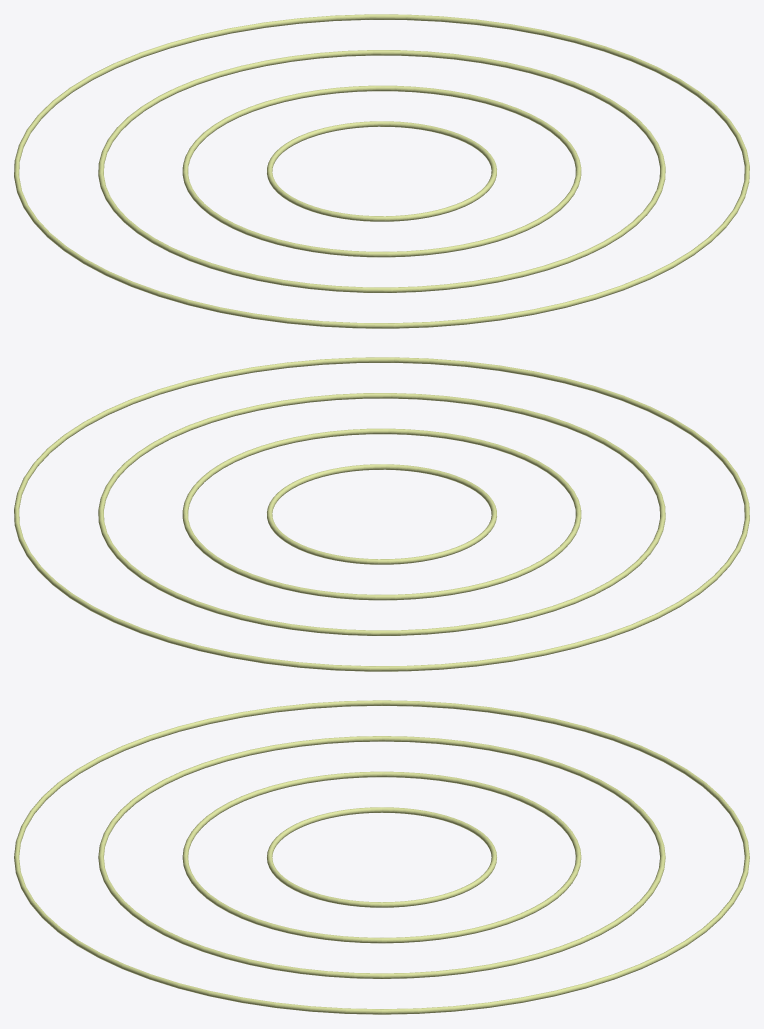
File: Rings.fbx
3 views of the same model, one above another, from view 1: azimuth 30°, elevation 25°; view 2: azimuth 150°, elevation 25°; view 3: azimuth 270°, elevation 25° (orthographic).
Visible parts, largest first — view 1: Ring4, Ring3, Ring2, Ring1; view 2: Ring4, Ring3, Ring2, Ring1; view 3: Ring4, Ring3, Ring2, Ring1.
Boxes of the visible parts, x1=… form: Ring4: x1=14, y1=14, x2=749, y2=328; Ring3: x1=98, y1=50, x2=665, y2=292; Ring2: x1=182, y1=85, x2=581, y2=257; Ring1: x1=267, y1=121, x2=496, y2=221; Ring4: x1=14, y1=357, x2=749, y2=671; Ring3: x1=98, y1=393, x2=665, y2=635; Ring2: x1=182, y1=428, x2=581, y2=600; Ring1: x1=267, y1=464, x2=496, y2=564; Ring4: x1=14, y1=700, x2=749, y2=1014; Ring3: x1=98, y1=736, x2=665, y2=978; Ring2: x1=182, y1=771, x2=581, y2=943; Ring1: x1=267, y1=807, x2=496, y2=907.
Bounding box in the file's own units: 13100 × 100 × 13100.
